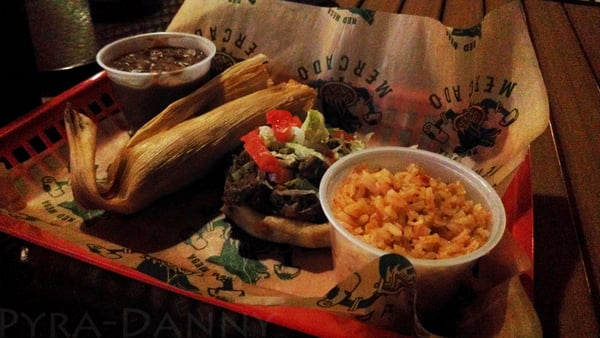sushi: (319, 144, 507, 303), (96, 30, 217, 104)
